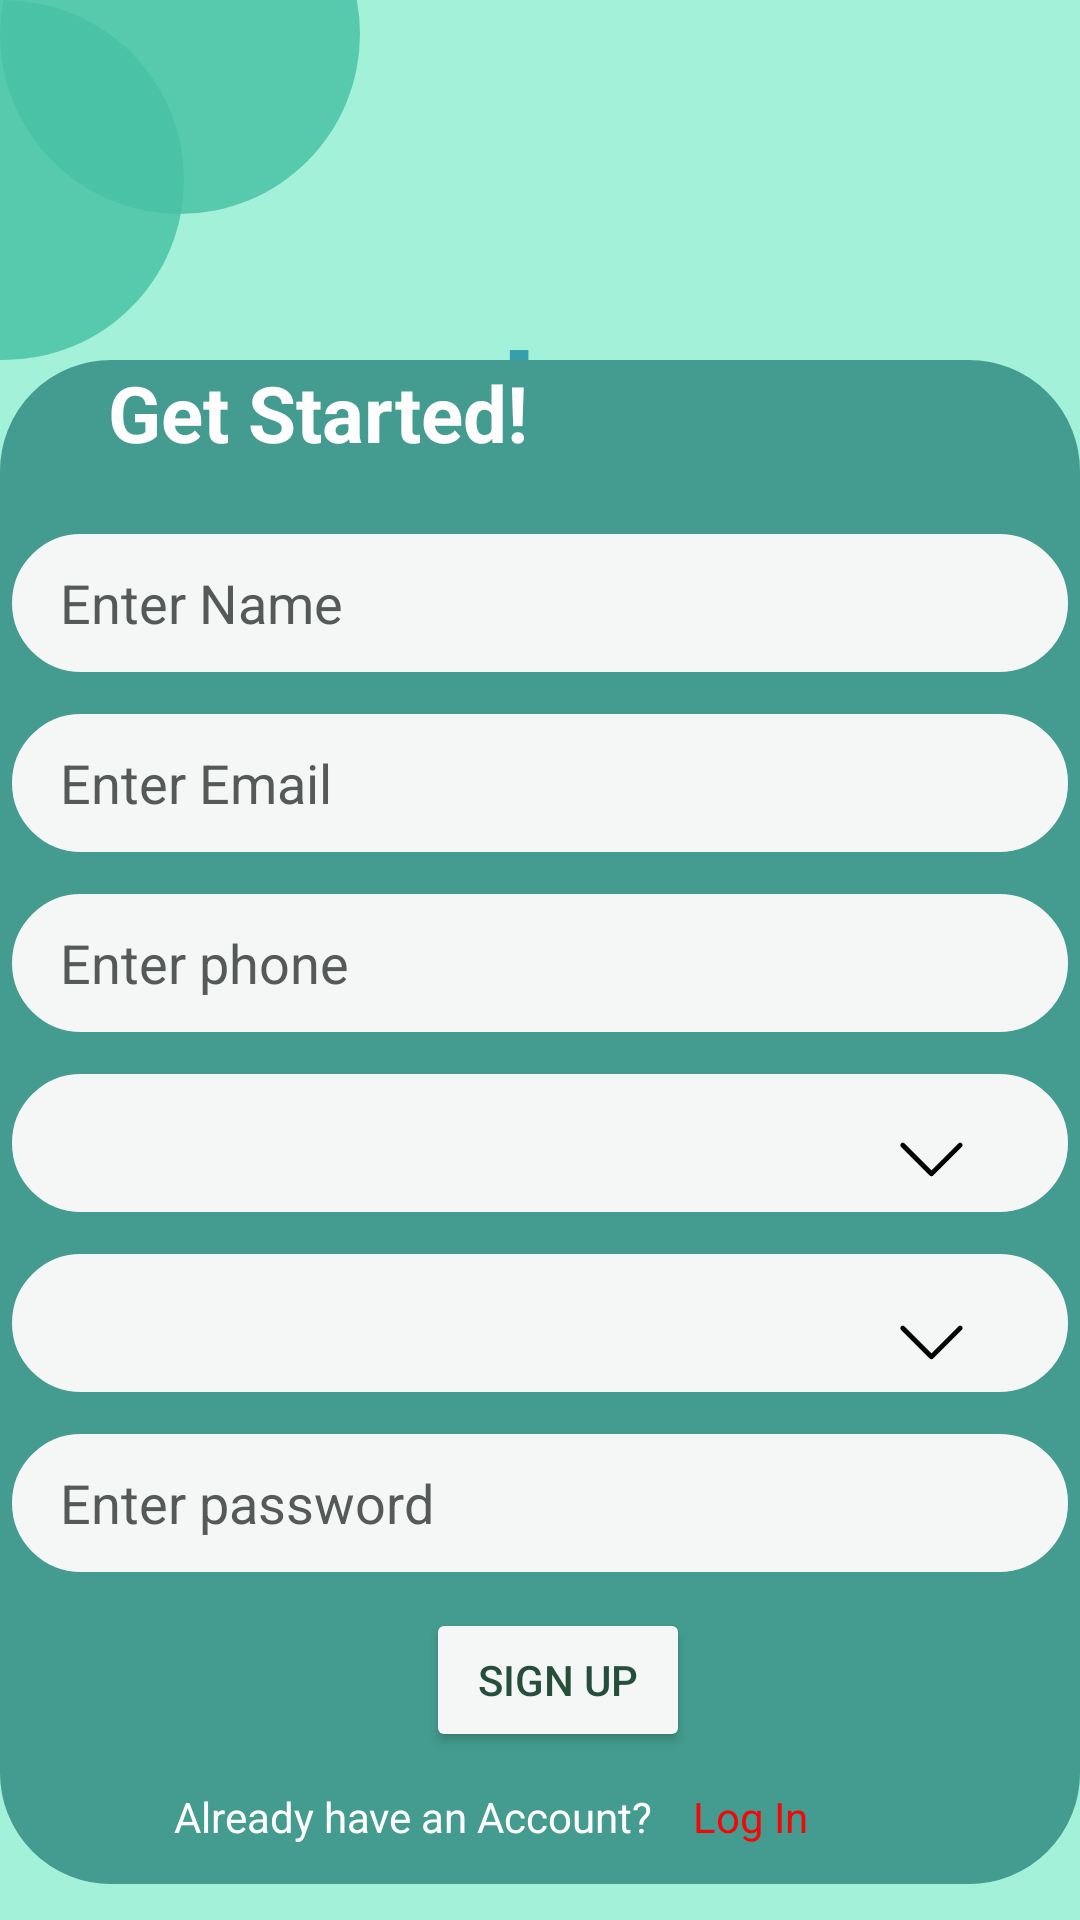

Screen size 1080px×1920px. Icon name, then its center in pixels as (x=x, y=y):
arrow down: (x=931, y=1159), (x=931, y=1342)
